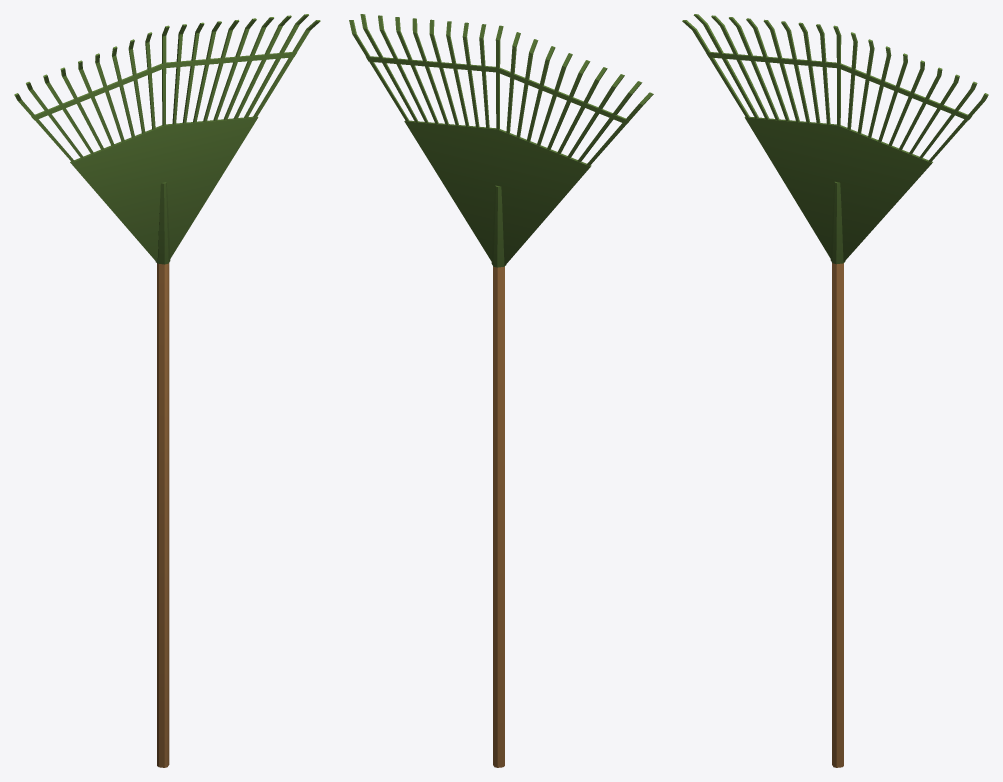
The model's file is Tool_Rake_02.obj.
The picture shows the model from 3 angles, left to right: view 1: azimuth 30°, elevation 25°; view 2: azimuth 150°, elevation 25°; view 3: azimuth 330°, elevation 25°; orthographic projection.
Visible parts, largest first — view 1: Tool_Rake_02; view 2: Tool_Rake_02; view 3: Tool_Rake_02.
Boxes of the visible parts, x1,y1,x2,y2 form: Tool_Rake_02: (14, 14, 320, 767); Tool_Rake_02: (349, 14, 653, 767); Tool_Rake_02: (682, 14, 988, 767).
Size of the model in its own units: 0.6441 by 1.49 by 0.0277.
1 material, 1 textured.
